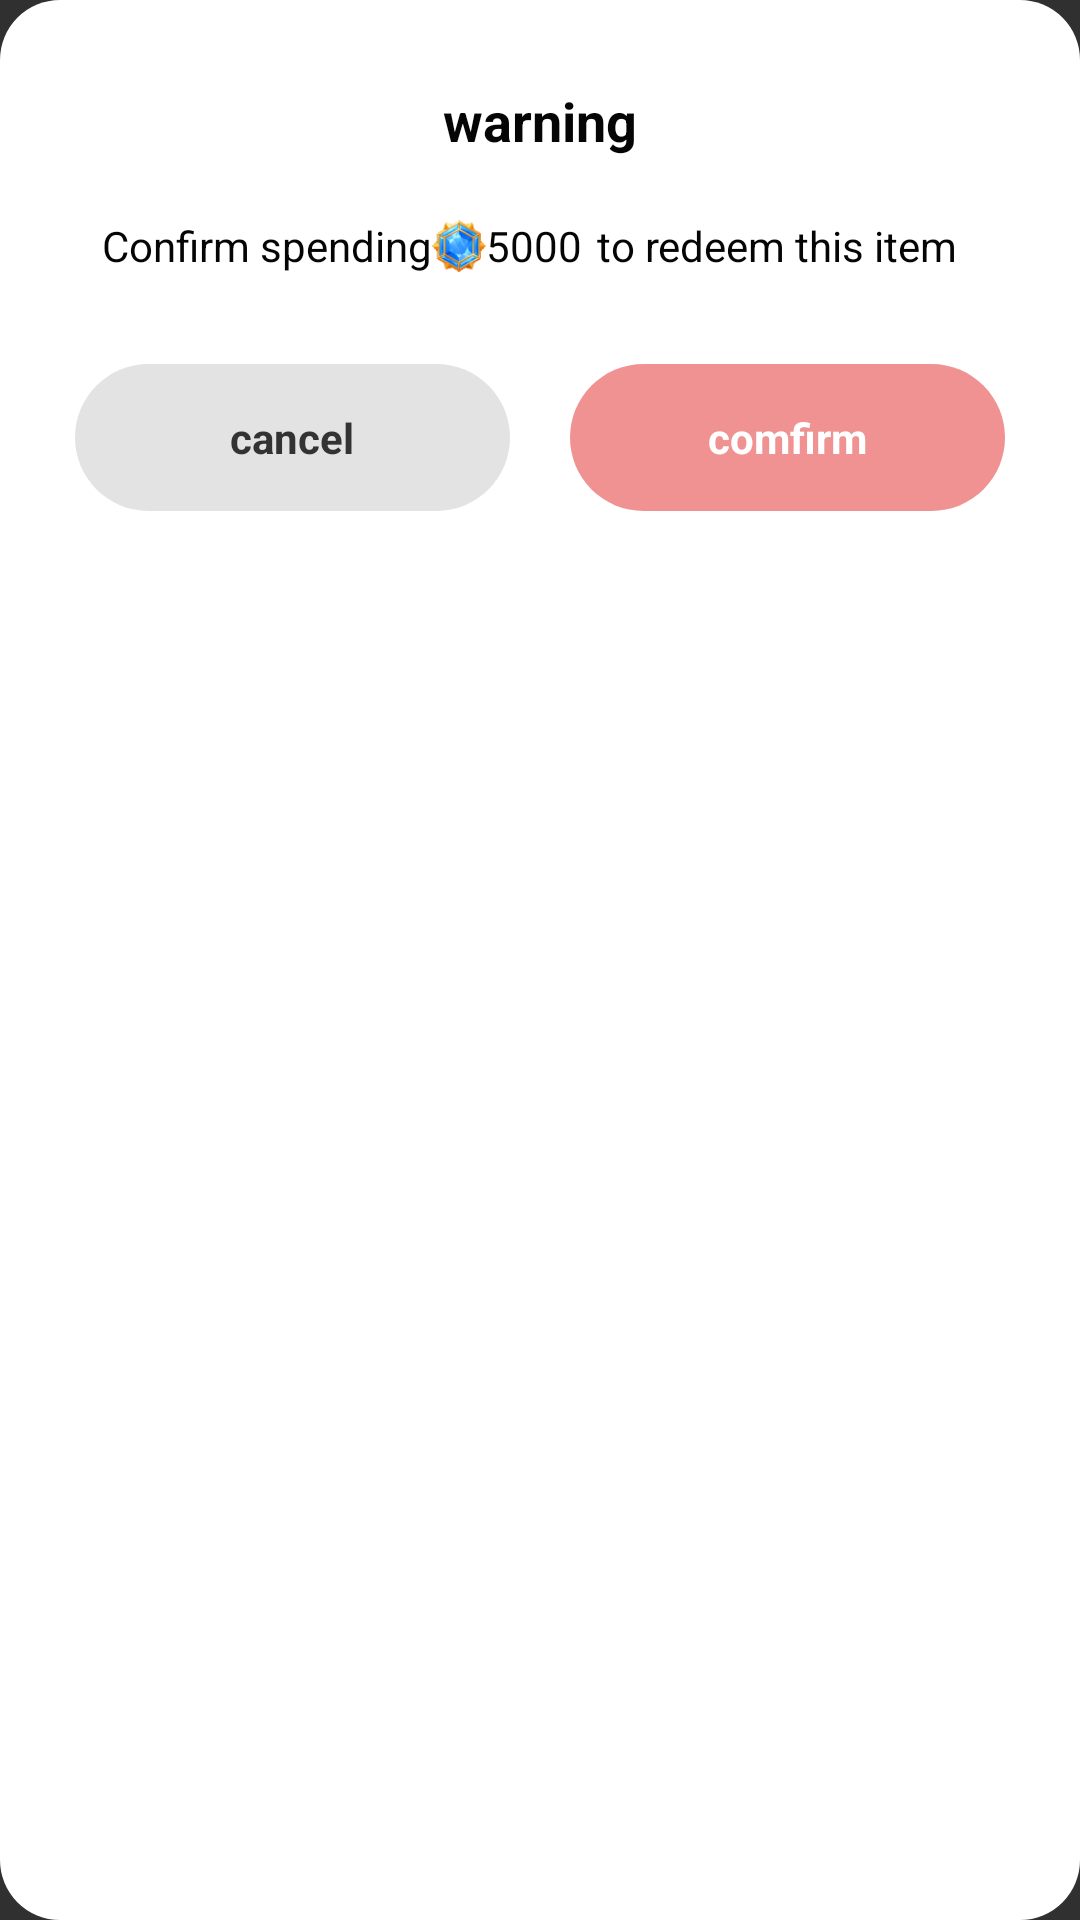

Icons on this 1080*1920 Android screen, each with the point to tap as (x=x, y=y):
diamond: (x=459, y=246)
